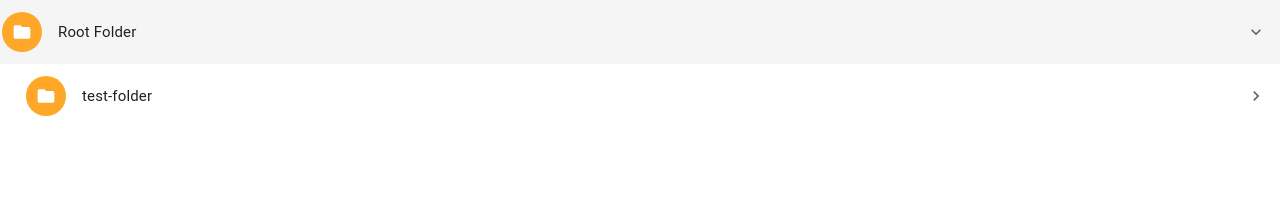
Test: FileTree › should expand folder when clicked
The width and height of the screenshot is (1280, 200).
Check: the text "test-folder" is shown, box 82,87 -> 152,105
Click the button "test-folder".
click(46, 96)  # box 0,64 -> 1279,128
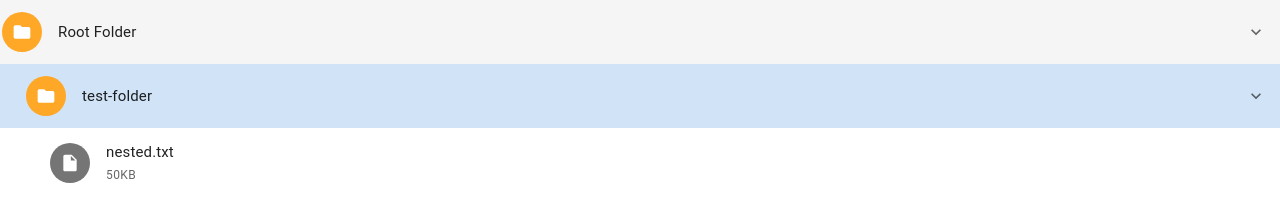
Check: the text "nested.txt" is shown, box 106,143 -> 174,161
